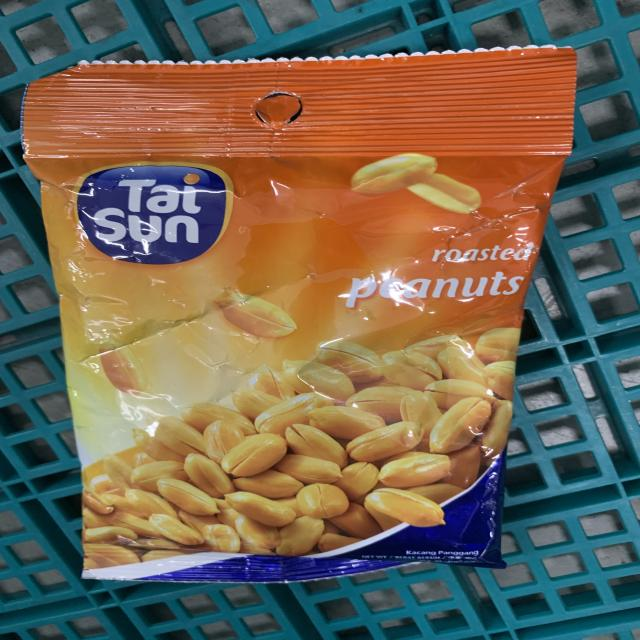object_name: (31, 62, 524, 571)
